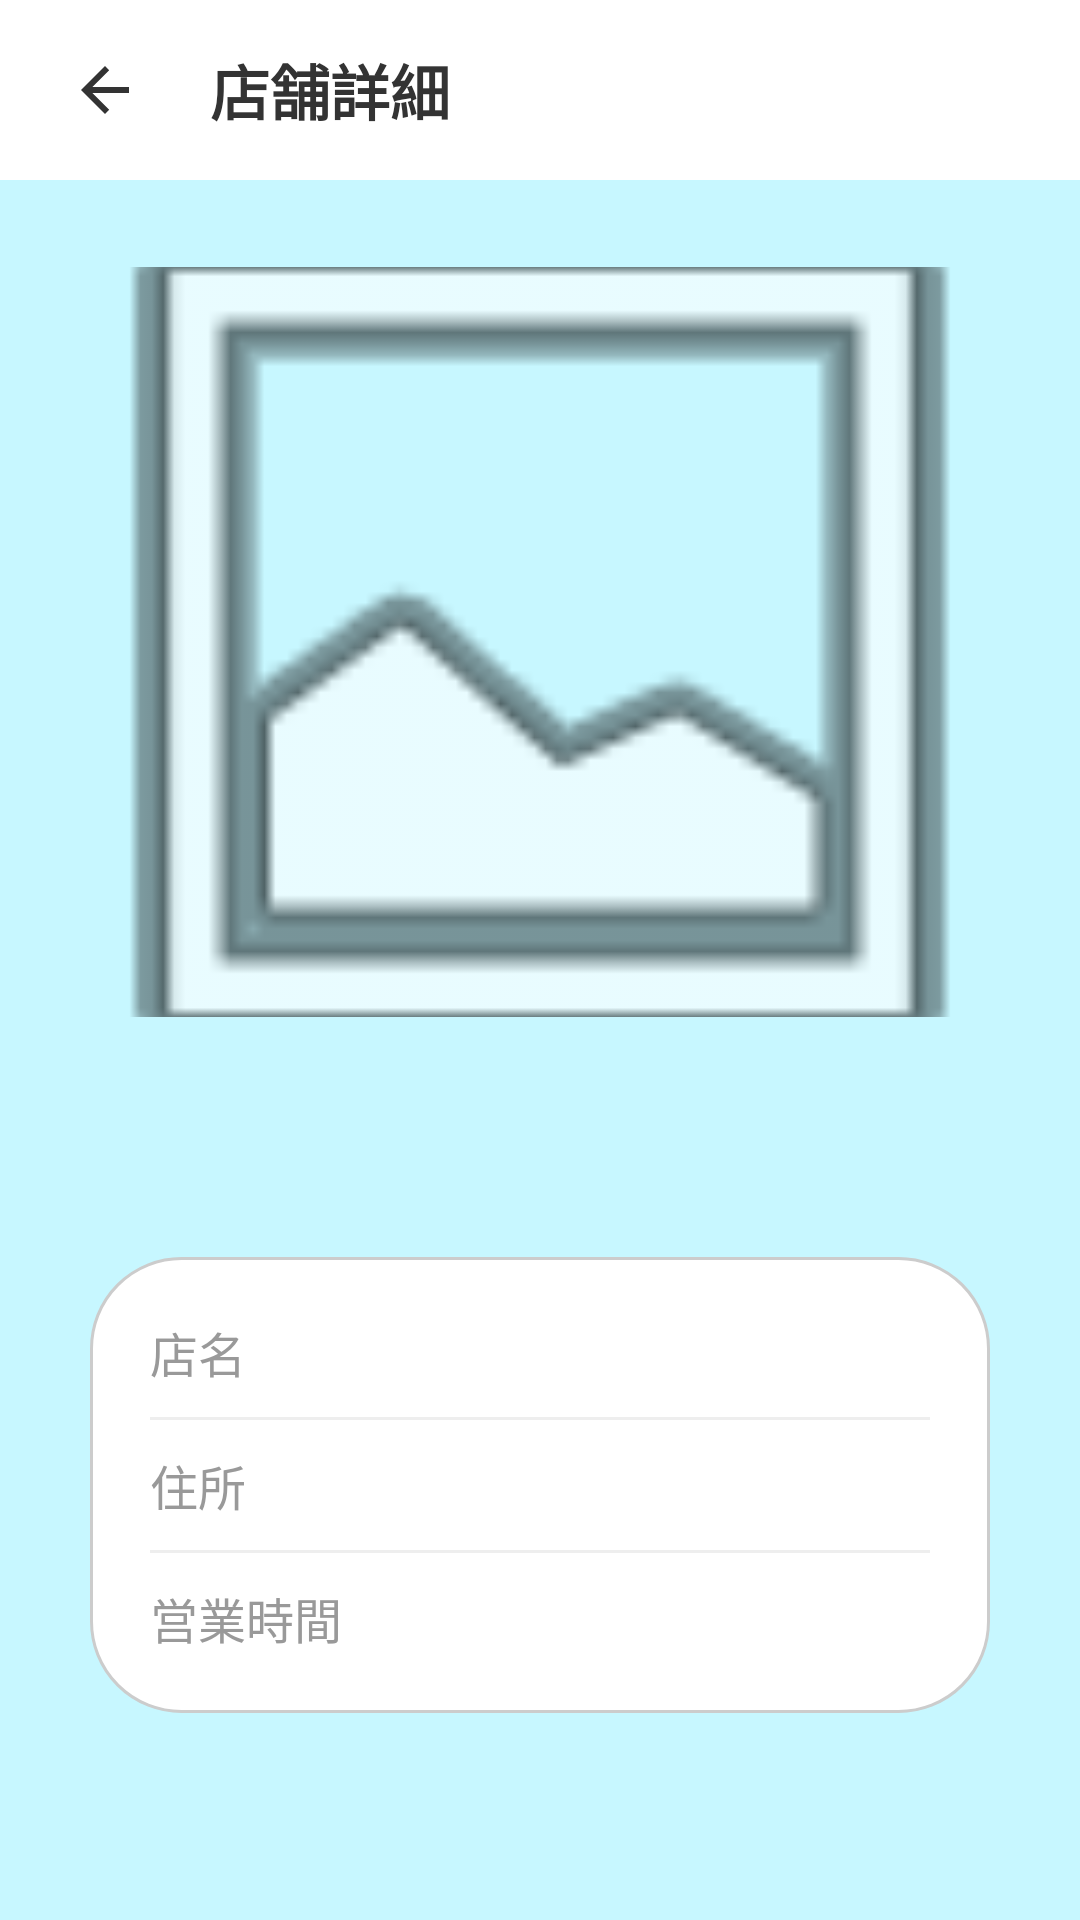

Icon click points for this 1080px x 1920px phone screenshot, format (x,y):
ab back: (105,90)
